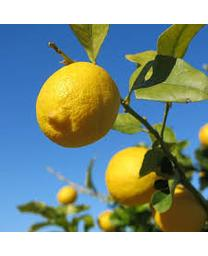lemon: (34, 61, 120, 148), (105, 149, 161, 205)
